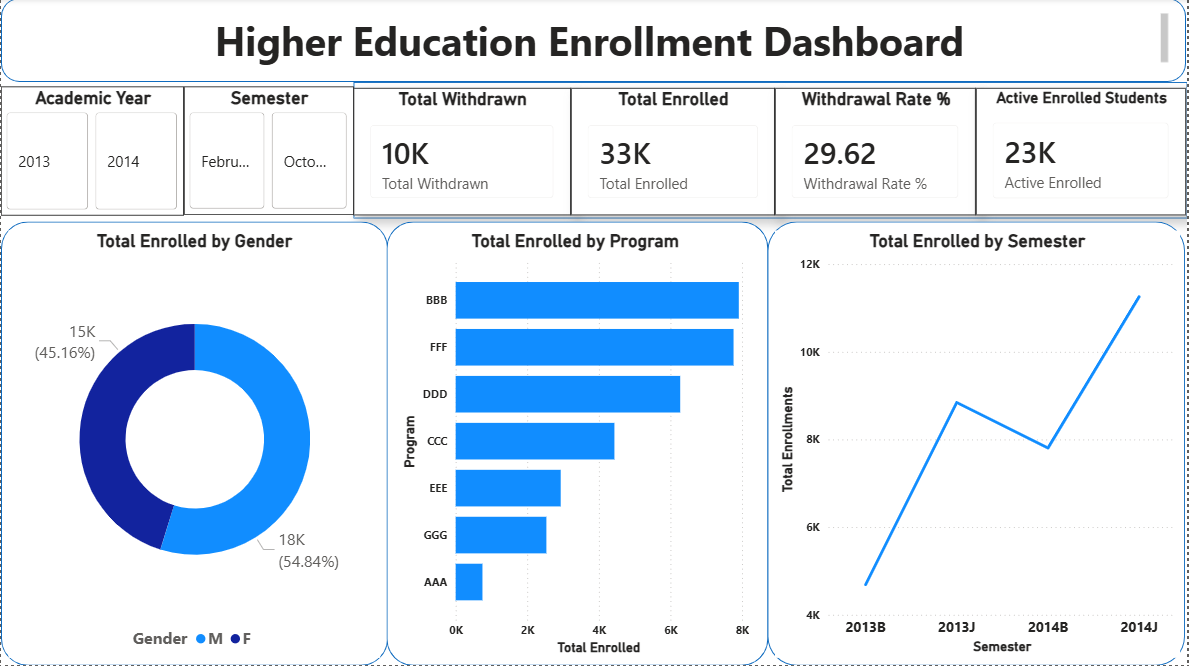

This screenshot's page, from the dashboard's own definition file:
{"tool":"powerbi","page":{"name":"Overview","canvas":[1280,720],"ordinal":0},"visuals":[{"type":"shape","box":[380.5,90.7,900.3,147.3],"z":0},{"type":"cardVisual","title":"Total Withdrawn","fields":{"Data":["vw_enrollment_master.Total Withdrawn"]},"box":[380.5,97.2,234.8,137.6],"z":1000},{"type":"cardVisual","title":"Total Enrolled","fields":{"Data":["vw_enrollment_master.Total Enrolled"]},"box":[615.3,97.2,220.2,137.6],"z":2000},{"type":"cardVisual","title":"Withdrawal Rate %","fields":{"Data":["vw_enrollment_master.Withdrawal Rate"]},"box":[835.5,97.2,217,137.6],"z":3000},{"type":"cardVisual","title":"Active Enrolled Students","fields":{"Data":["vw_enrollment_master.Active Enrolled"]},"box":[1052.5,97.2,226.7,137.6],"z":4000},{"type":"shape","box":[0,0,1279.2,90.7],"z":5000},{"type":"textbox","box":[14.6,11.3,1250,64.8],"z":6000},{"type":"advancedSlicerVisual","fields":{"Values":["vw_enrollment_master.academic_year"]},"box":[0,95.5,197.5,139.3],"z":7000},{"type":"advancedSlicerVisual","fields":{"Values":["vw_enrollment_master.semester_name"]},"box":[197.9,95.7,183.1,138.6],"z":8000},{"type":"shape","box":[0,240.7,417.9,479.5],"z":9000},{"type":"donutChart","fields":{"Category":["vw_enrollment_master.gender"],"Y":["vw_enrollment_master.Total Enrolled"]},"box":[8.1,251,401.6,461.5],"z":9500},{"type":"shape","box":[416,240.7,412.1,479.5],"z":9750},{"type":"clusteredBarChart","title":"Total Enrolled by Program","fields":{"Category":["vw_enrollment_master.code_module"],"Y":["vw_enrollment_master.Total Enrolled"]},"box":[427.5,250.4,385.2,462.2],"z":10000},{"type":"shape","box":[828.1,240.7,450.6,479.5],"z":12000},{"type":"lineChart","title":"Total Enrolled by Semester","fields":{"Category":["vw_enrollment_master.code_presentation"],"Y":["vw_enrollment_master.Total Enrolled"]},"box":[835.5,251,437.2,461.5],"z":13000}]}

Visuals, with their boxes in screenshot pixels (x1, y1, x2, y2), scaled from the page's 1280x720 canvas onto the 1189x666 screenshot:
shape: [left=353, top=84, right=1188, bottom=220]
"Total Withdrawn" cardVisual: [left=353, top=90, right=572, bottom=217]
"Total Enrolled" cardVisual: [left=572, top=90, right=776, bottom=217]
"Withdrawal Rate %" cardVisual: [left=776, top=90, right=978, bottom=217]
"Active Enrolled Students" cardVisual: [left=978, top=90, right=1188, bottom=217]
shape: [left=0, top=0, right=1188, bottom=84]
textbox: [left=14, top=10, right=1175, bottom=70]
advancedSlicerVisual - vw_enrollment_master.academic_year: [left=0, top=88, right=183, bottom=217]
advancedSlicerVisual - vw_enrollment_master.semester_name: [left=184, top=89, right=354, bottom=217]
shape: [left=0, top=223, right=388, bottom=665]
donutChart - vw_enrollment_master.gender x vw_enrollment_master.Total Enrolled: [left=8, top=232, right=381, bottom=659]
shape: [left=386, top=223, right=769, bottom=665]
"Total Enrolled by Program" clusteredBarChart: [left=397, top=232, right=755, bottom=659]
shape: [left=769, top=223, right=1188, bottom=665]
"Total Enrolled by Semester" lineChart: [left=776, top=232, right=1182, bottom=659]
